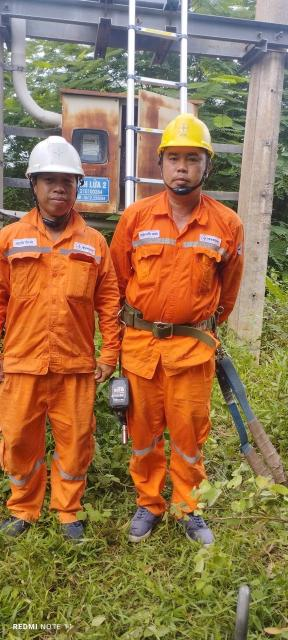harness: (111, 294, 235, 344)
helmet: (19, 132, 100, 183), (147, 112, 222, 161)
shoes: (172, 510, 224, 550), (124, 502, 162, 542), (54, 507, 92, 543), (4, 511, 30, 542)
